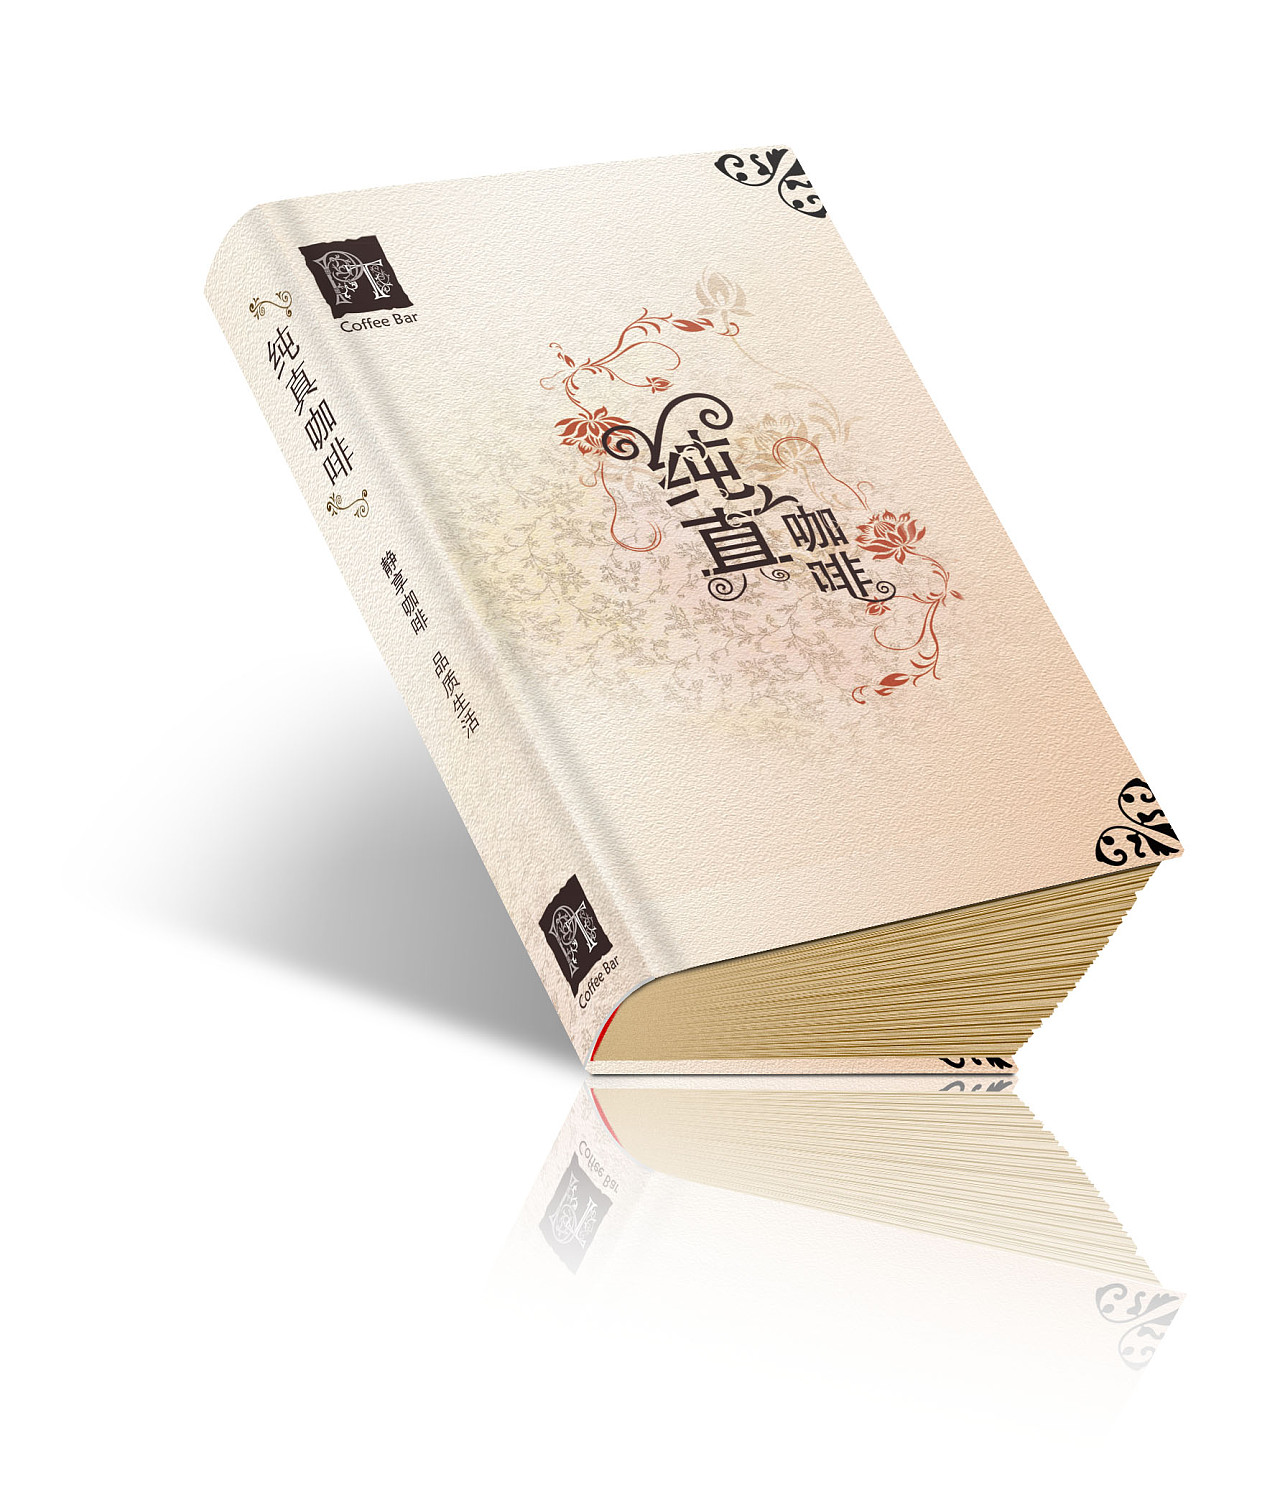book: (202, 109, 1192, 1106)
